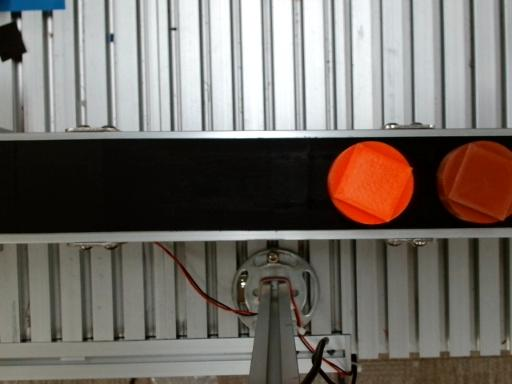Square: (333, 144, 413, 222)
